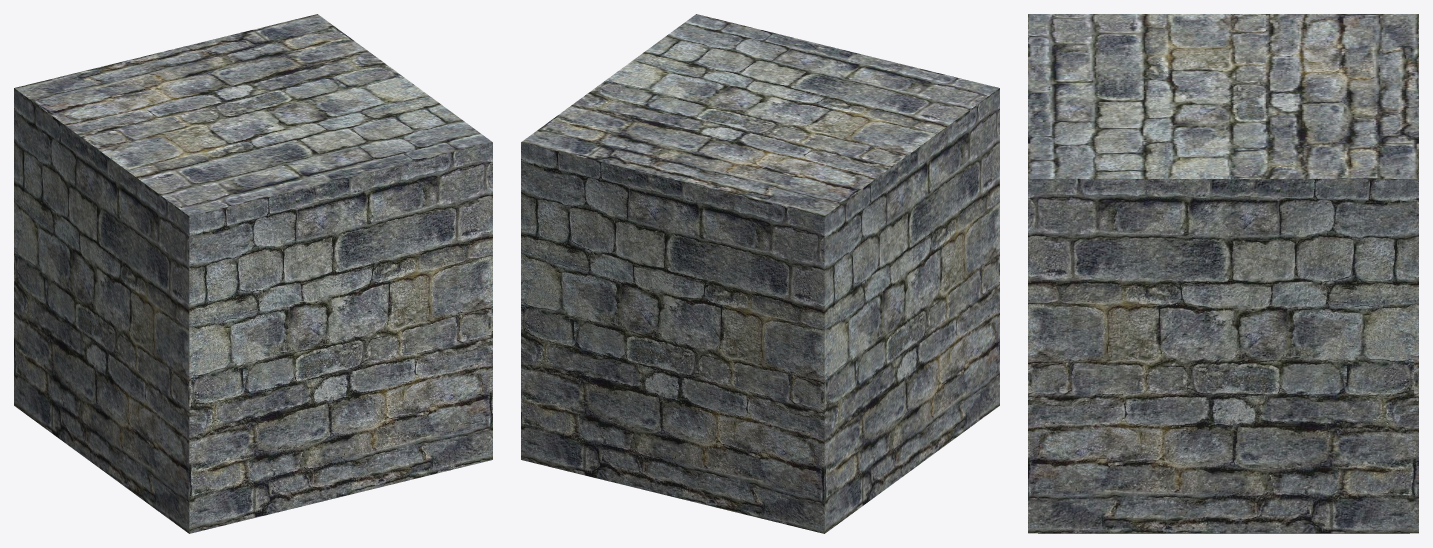
The model's file is wall.obj.
3 renders of one model, left to right at view 1: azimuth 30°, elevation 25°; view 2: azimuth 150°, elevation 25°; view 3: azimuth 270°, elevation 25°, orthographic. The views are drawn at different scales.
Visible parts, largest first — view 1: Cube.002; view 2: Cube.002; view 3: Cube.002.
Boxes of the visible parts, box(x1,y1,x2,y2) form: Cube.002: box(14, 14, 492, 533); Cube.002: box(521, 14, 999, 533); Cube.002: box(1028, 14, 1418, 533).
Size of the model in its own units: 1.05 by 1.05 by 1.05.
3 materials, 2 textured.
